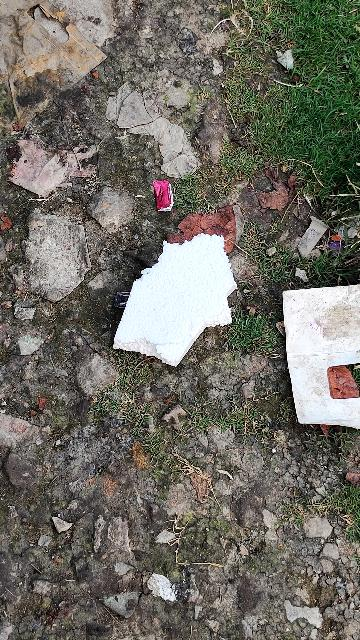cocksheet: (105, 235, 262, 404), (284, 277, 360, 446)
